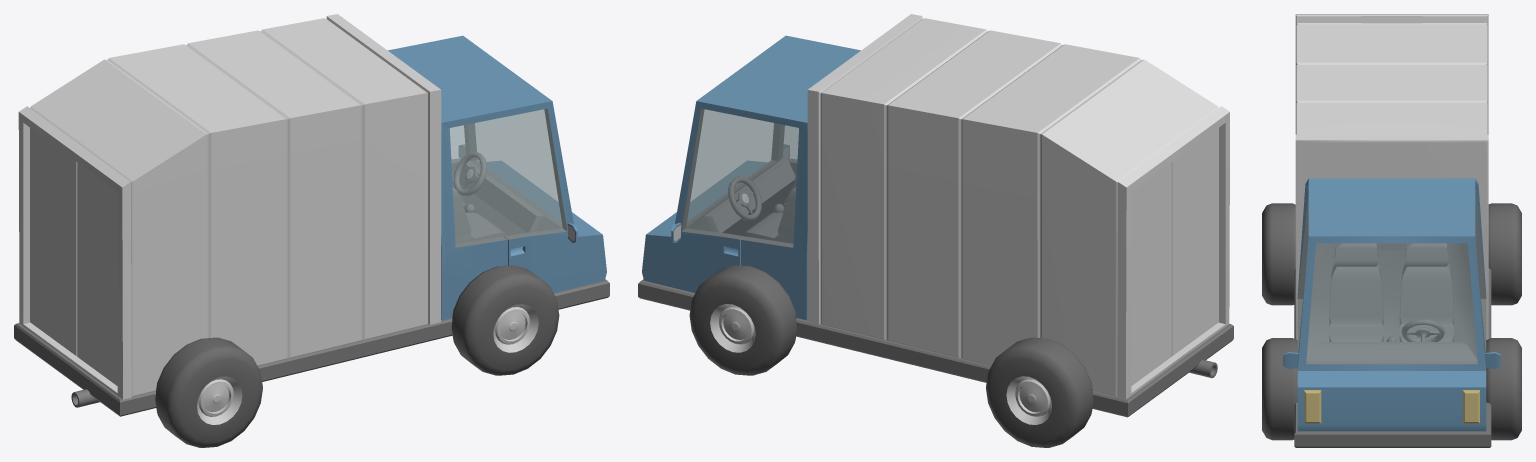
File: Car05.fbx
The picture shows the model from 3 angles, left to right: view 1: azimuth 30°, elevation 25°; view 2: azimuth 150°, elevation 25°; view 3: azimuth 270°, elevation 25°; orthographic projection. The views are drawn at different scales.
Parts seen in each view (by area): view 1: polySurface162; view 2: polySurface162; view 3: polySurface162.
Part boxes in pixels (x1=…): polySurface162: x1=14, y1=14, x2=609, y2=447; polySurface162: x1=638, y1=14, x2=1233, y2=447; polySurface162: x1=1262, y1=14, x2=1521, y2=447.
Bounding box in the file's own units: 713 × 408 × 342.
